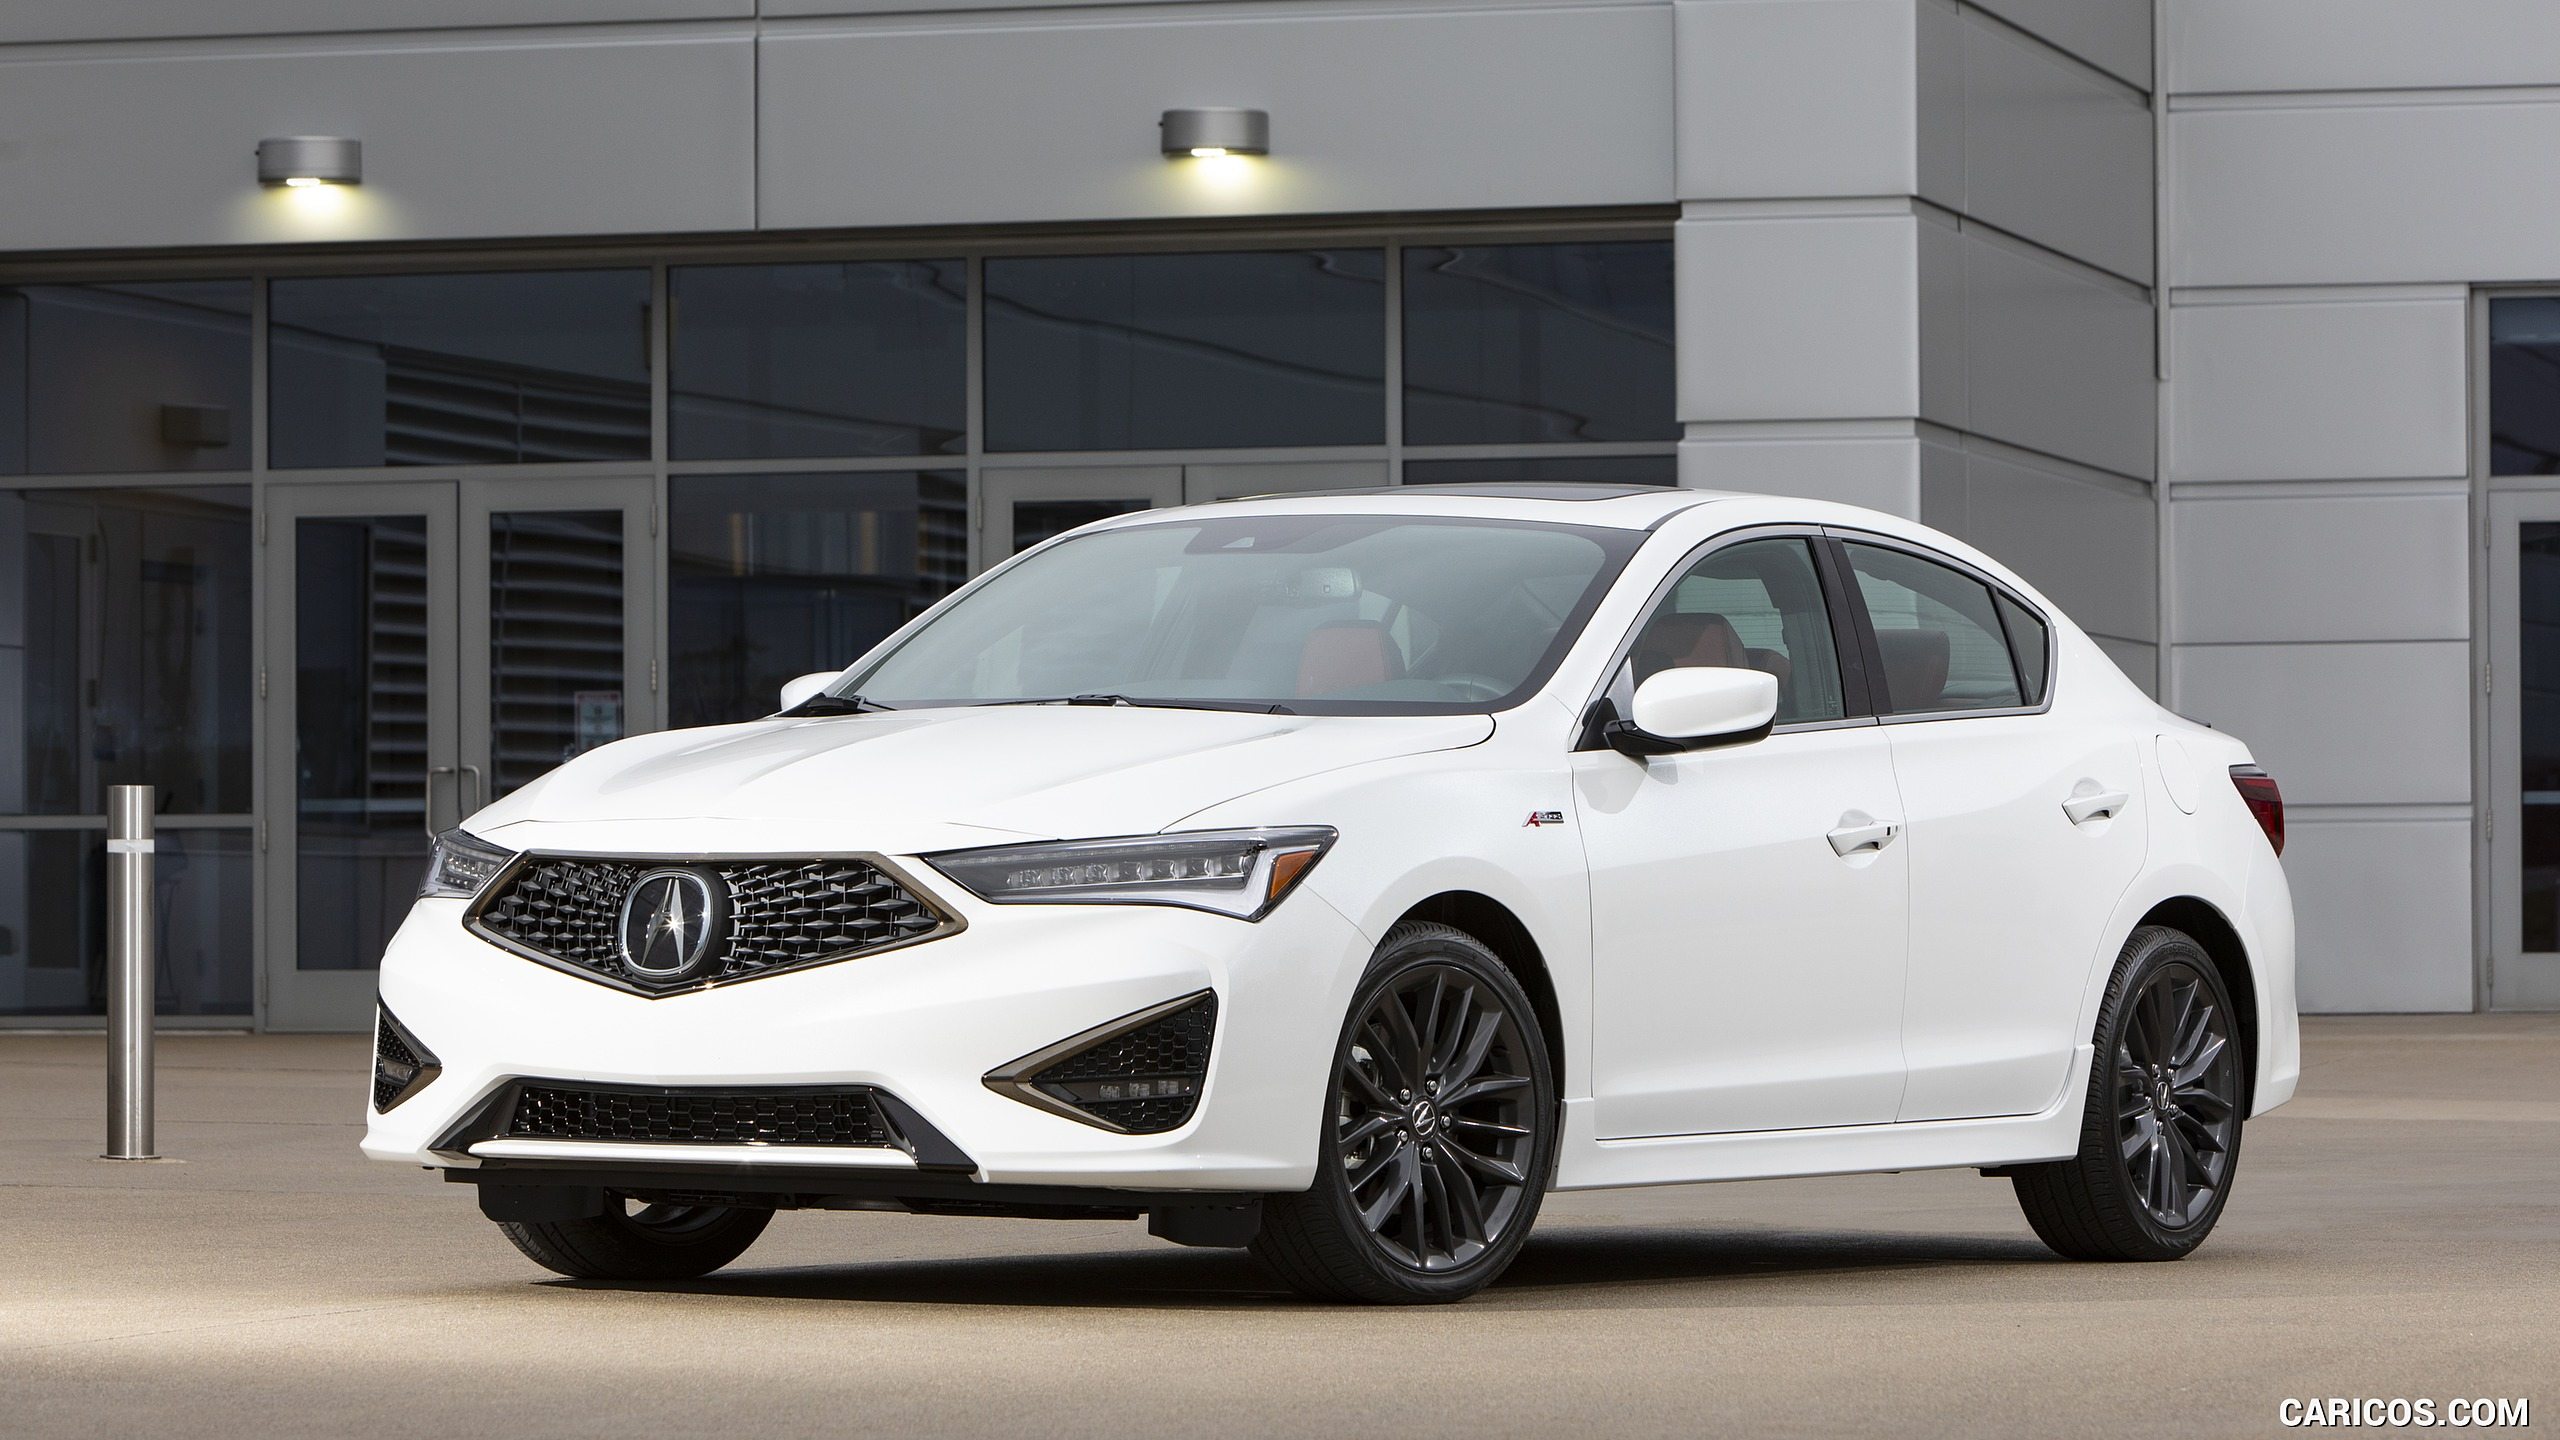Fog Lamp & Scope: (1051, 1022, 1218, 1131)
Front: (357, 721, 1531, 1183)
Front Bumper: (357, 995, 1342, 1180)
Grill: (482, 862, 920, 985)
Headlight: (953, 825, 1333, 920)
